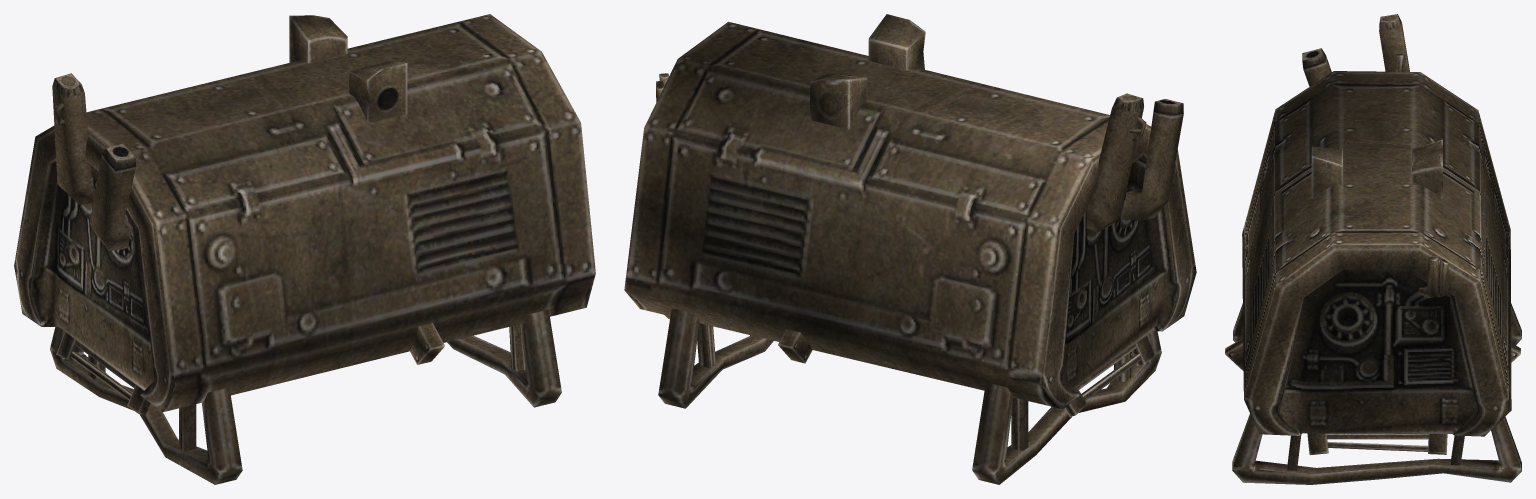
The model's file is generator_small.dae.
3 renders of one model, left to right at view 1: azimuth 30°, elevation 25°; view 2: azimuth 150°, elevation 25°; view 3: azimuth 270°, elevation 25°, orthographic. The views are drawn at different scales.
Parts seen in each view (by area): view 1: scrap_generator; view 2: scrap_generator; view 3: scrap_generator.
Part boxes in pixels (x1,y1,x2,y2): scrap_generator: (14,14,595,484); scrap_generator: (624,14,1196,484); scrap_generator: (1225,14,1521,484).
Bounding box in the file's own units: 0.7541 × 0.5528 × 0.4937.
